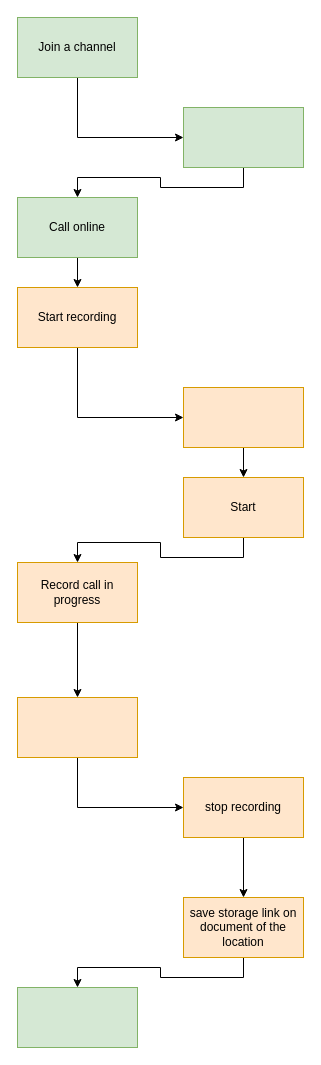
Some shapes in this 321 by 1065 pixel diagram are drawn without their labels. Here are the shapes that lost their labels. From the top down, the centre of each, then its label:
At (243,137): "Get Token".
At (243,417): "Aquire".
At (77,727): "stop the call or stop recording".
At (77,1017): "Done / User continue navigating the site".
